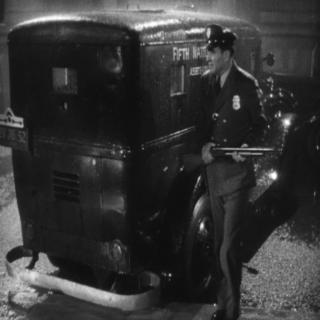gun: (174, 135, 289, 179)
